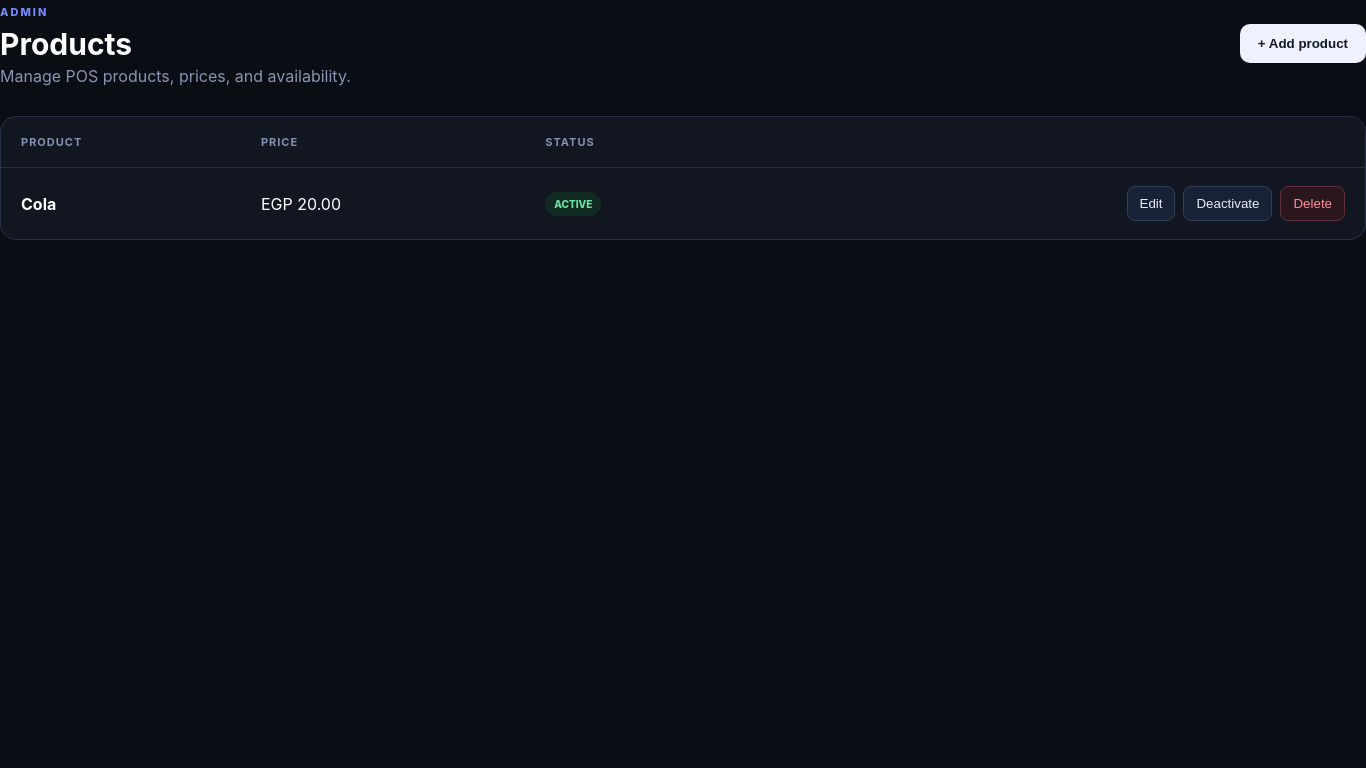
ProductsPage › shows a delete-blocked error inside the confirmation dialog and keeps it open
Expected: the text "Cola" is shown, [21,194,56,214]
Click the button "Delete".
click(1313, 204)  # box [1280,186,1345,221]
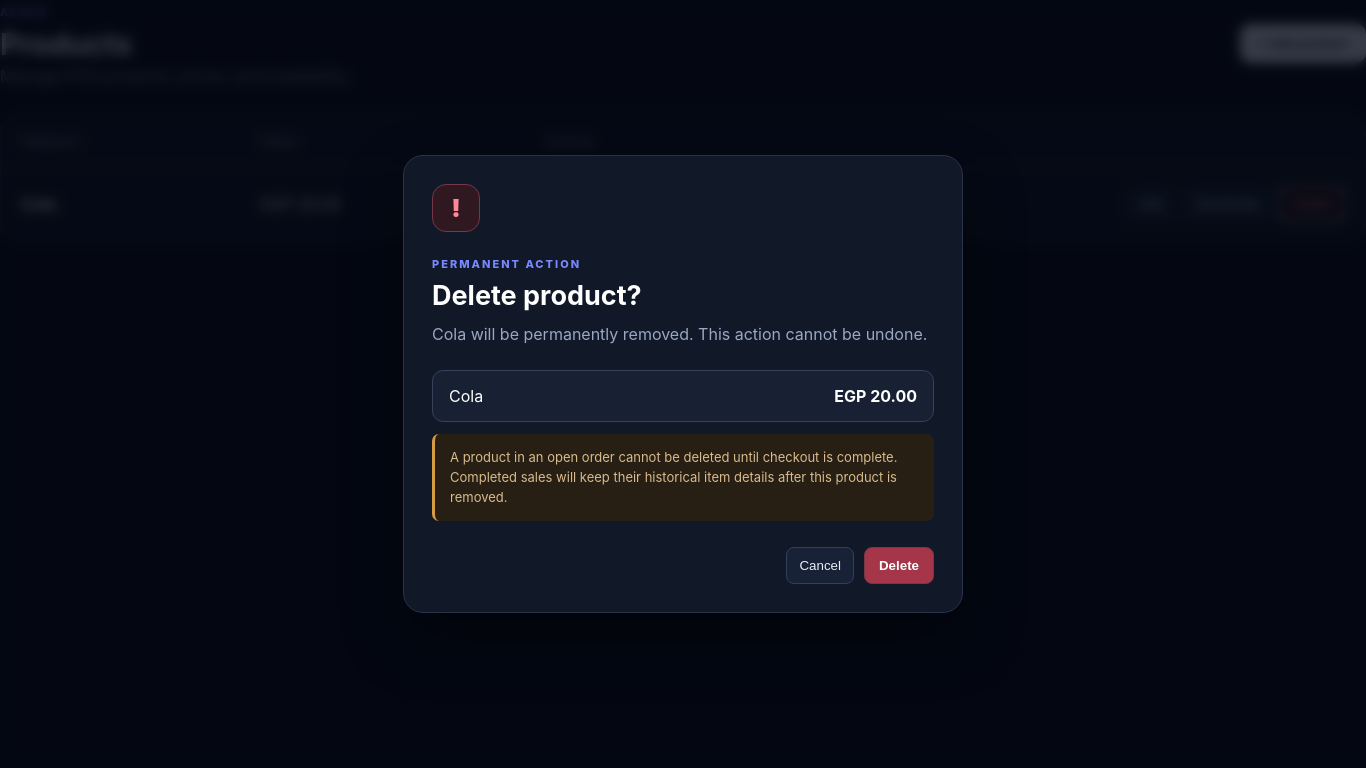
Click the button "Delete".
click(899, 565)  # box [864,546,934,584]
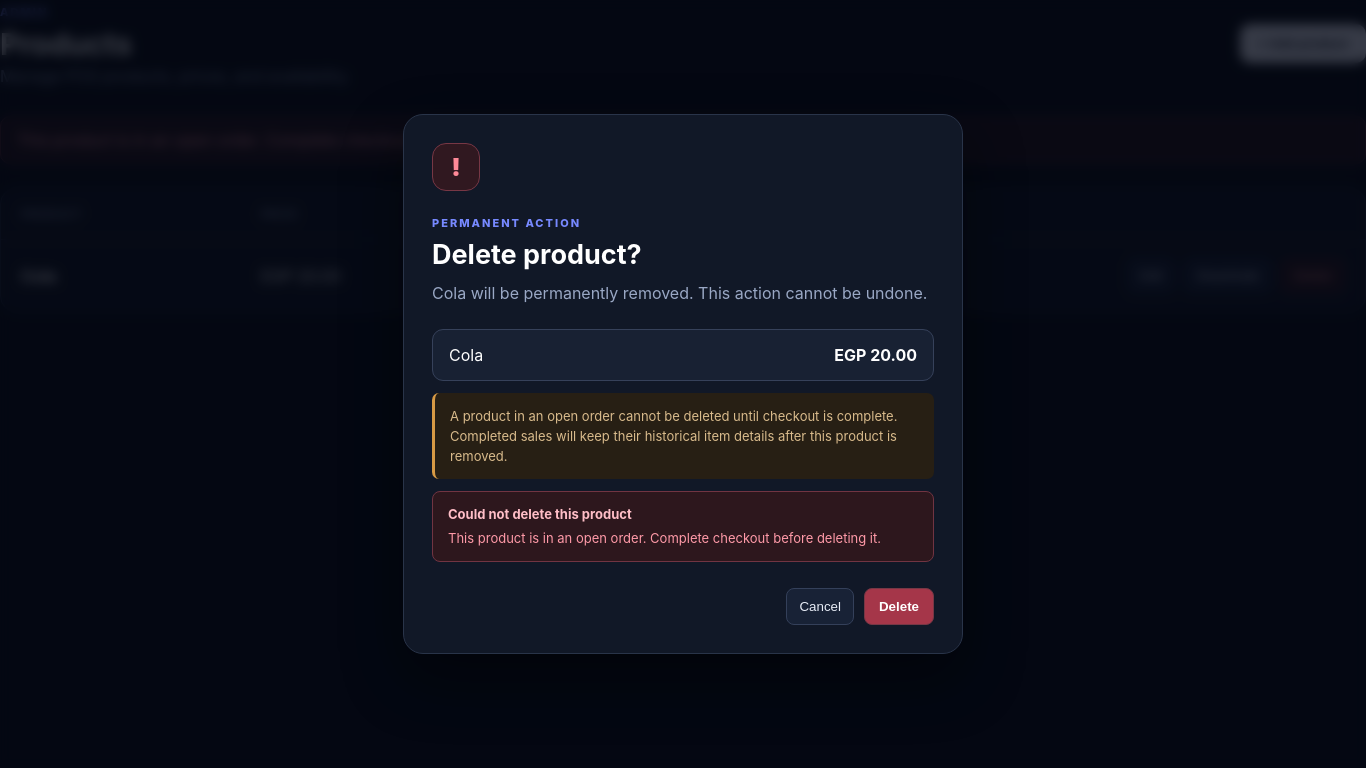
Expected: the dialog is shown, [403,114,963,654]
Expected: the message shows "This product is in an open order. Complete checkout before deleting it.", [448,530,881,546]
